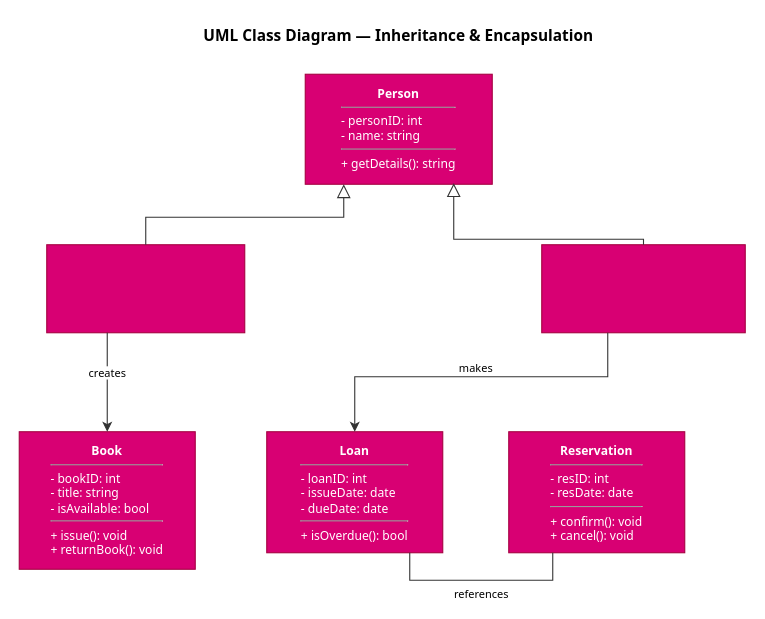
Image size: 765x619. Some labels were removed from this diagram. Each missing label, with the centre of its shape:
"Member - contactNo: string + borrow(): Loan" belongs at point 643,288.
"Staff - role: string + assignMember(): void" belongs at point 145,288.
